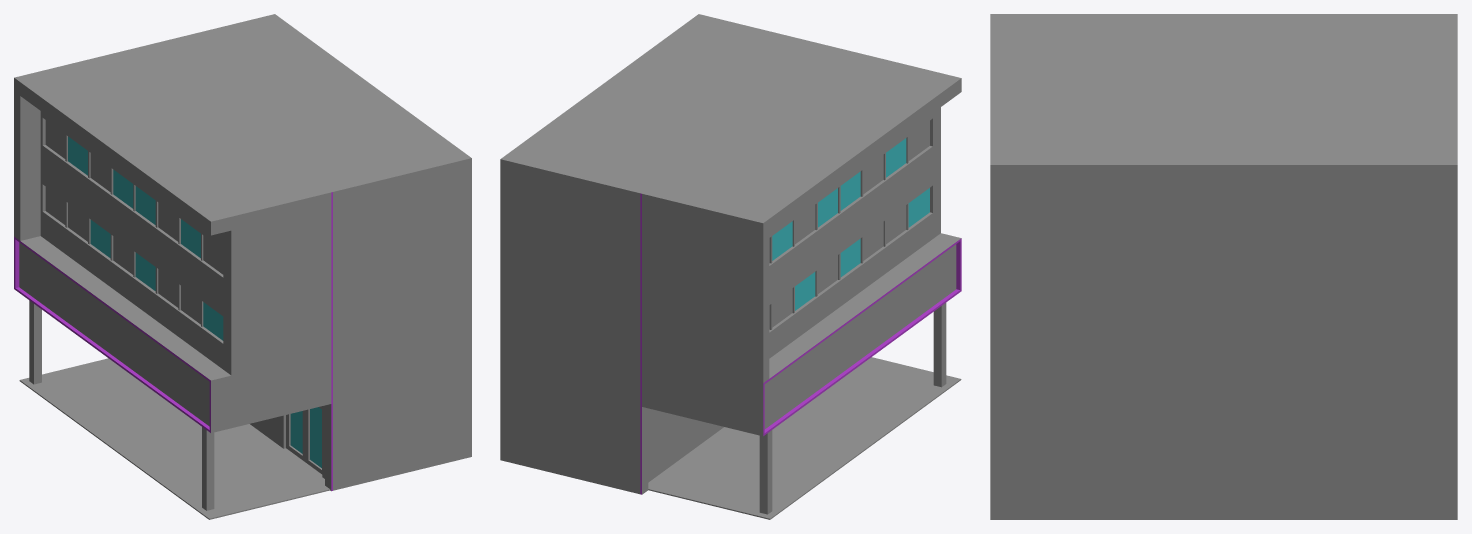
Rendered from BuildingS_01_var2.fbx.
3 views of the same model, side by side, from view 1: azimuth 30°, elevation 25°; view 2: azimuth 150°, elevation 25°; view 3: azimuth 270°, elevation 25° (orthographic). The views are drawn at different scales.
Visible parts, largest first — view 1: BuildingS_01_var2; view 2: BuildingS_01_var2; view 3: BuildingS_01_var2.
Part boxes in pixels (x1,y1,x2,y2): BuildingS_01_var2: (14, 14, 471, 519); BuildingS_01_var2: (500, 14, 961, 519); BuildingS_01_var2: (990, 14, 1457, 519).
Size of the model in its own units: 0.2421 by 0.2644 by 0.3157.
